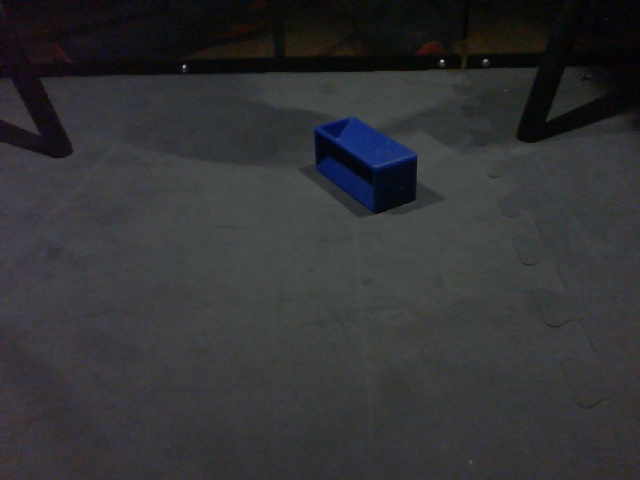BlueSample: (309, 111, 421, 215)
